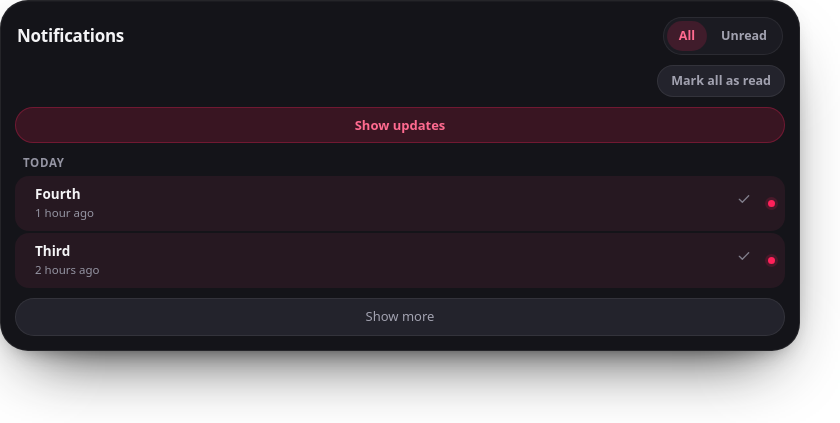
Test: Inbox filters and paging › offers the external update as an explicit action and keeps the list until it is used
This screenshot has width=840, height=423.
Expected: the text "Third" is shown, top-left (35, 242), bottom-right (70, 260)
Expected: the text "Fifth" is not shown
What coordinates should you click on to do the following:
click the button "Show updates"
I would click on:
 (400, 125)
Its box is top-left (15, 107), bottom-right (785, 143).
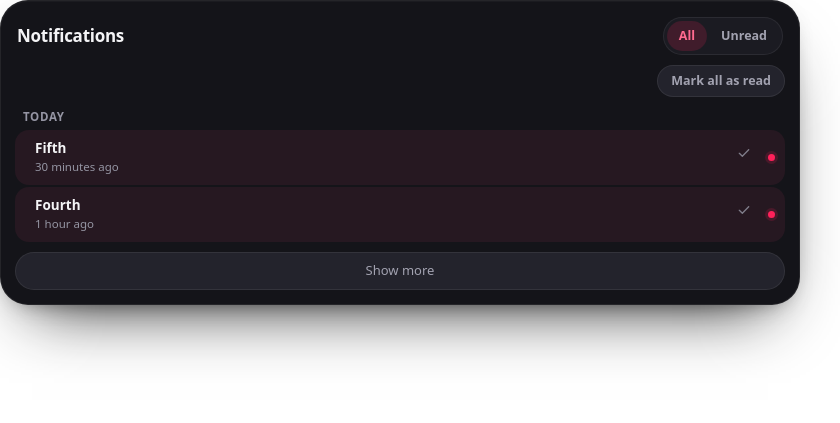
Result: the text "Fifth" is shown at top-left (35, 139), bottom-right (66, 157)
Result: the button "Show updates" is gone
Result: the button "Third" is gone
